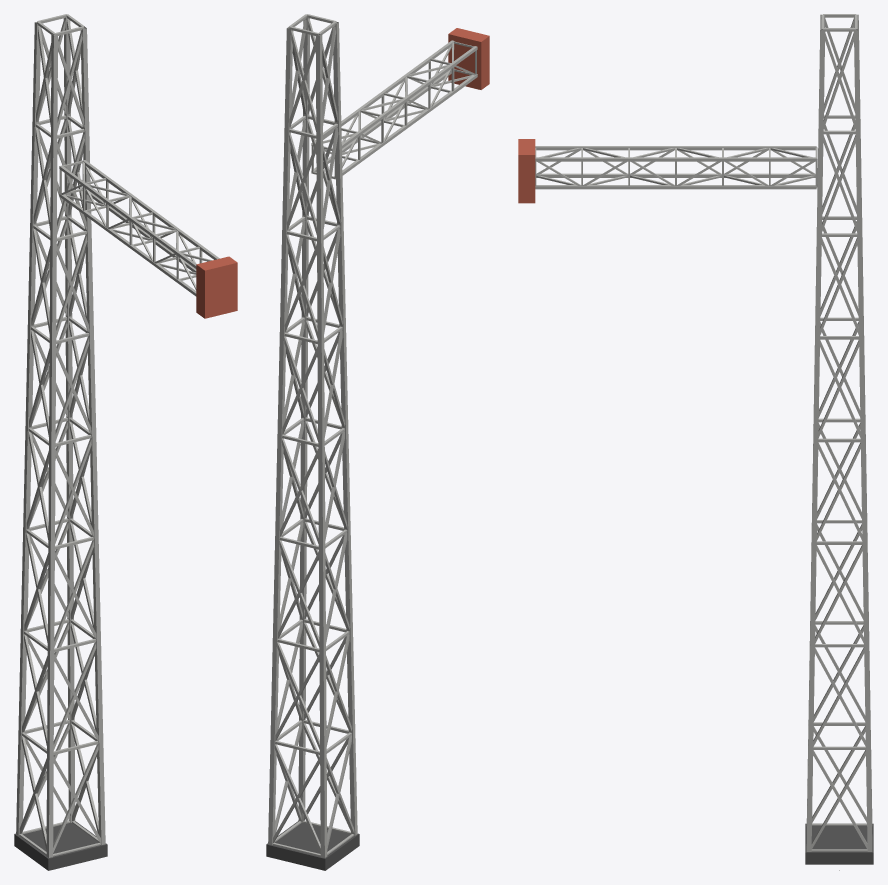
Rendered from Pad_Mast.fbx.
3 views of the same model, side by side, from view 1: azimuth 30°, elevation 25°; view 2: azimuth 150°, elevation 25°; view 3: azimuth 270°, elevation 25° (orthographic).
Visible parts, largest first — view 1: Pad_Mast; view 2: Pad_Mast; view 3: Pad_Mast.
Part boxes in pixels (<box>): Pad_Mast: <box>14,14,237,870</box>; Pad_Mast: <box>266,14,489,870</box>; Pad_Mast: <box>518,14,873,870</box>.
Bounding box in the file's own units: 1.8 × 24.36 × 9.35.
